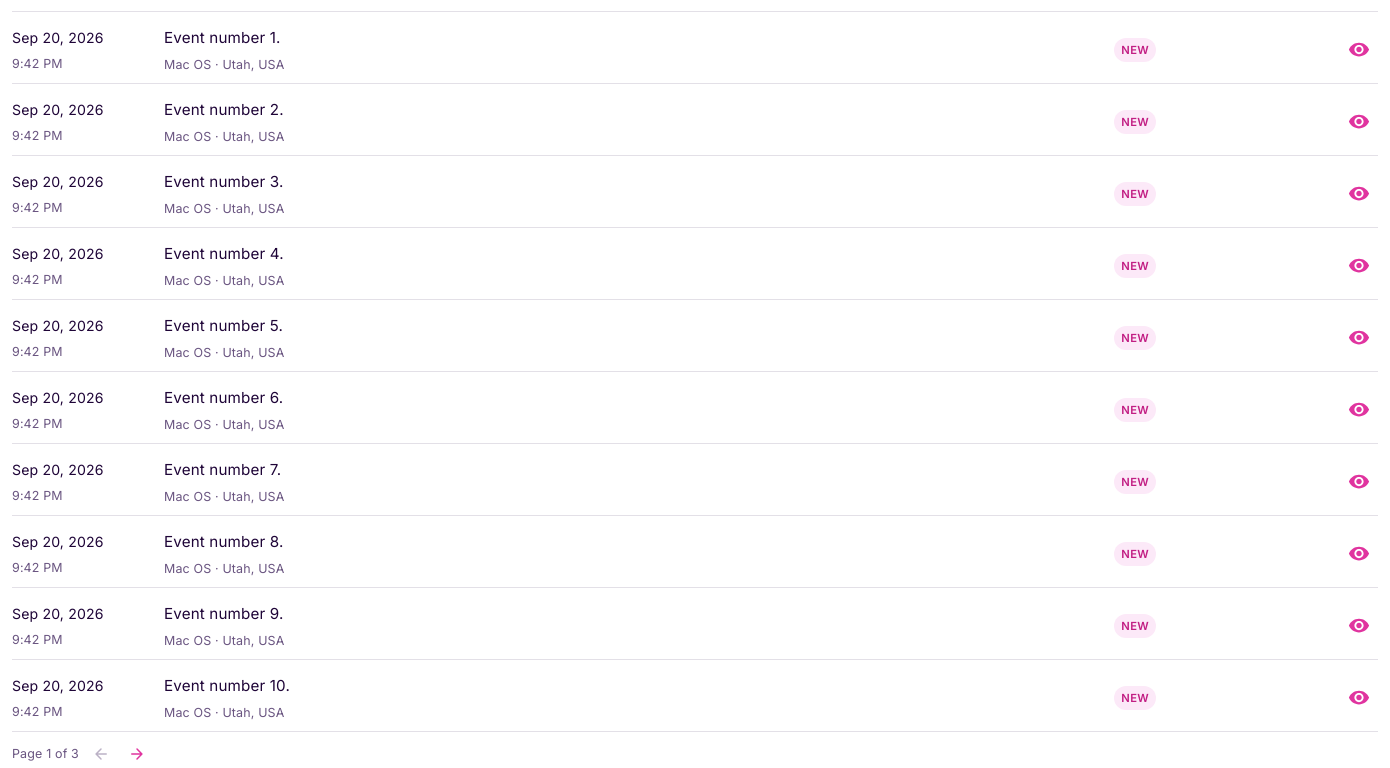
it: the pages it is read in › walks forward into the older rows and back out again
The image size is (1390, 768).
(page scrolled)
Click the button named "Older activity".
click(137, 754)  # box [123,740,151,767]
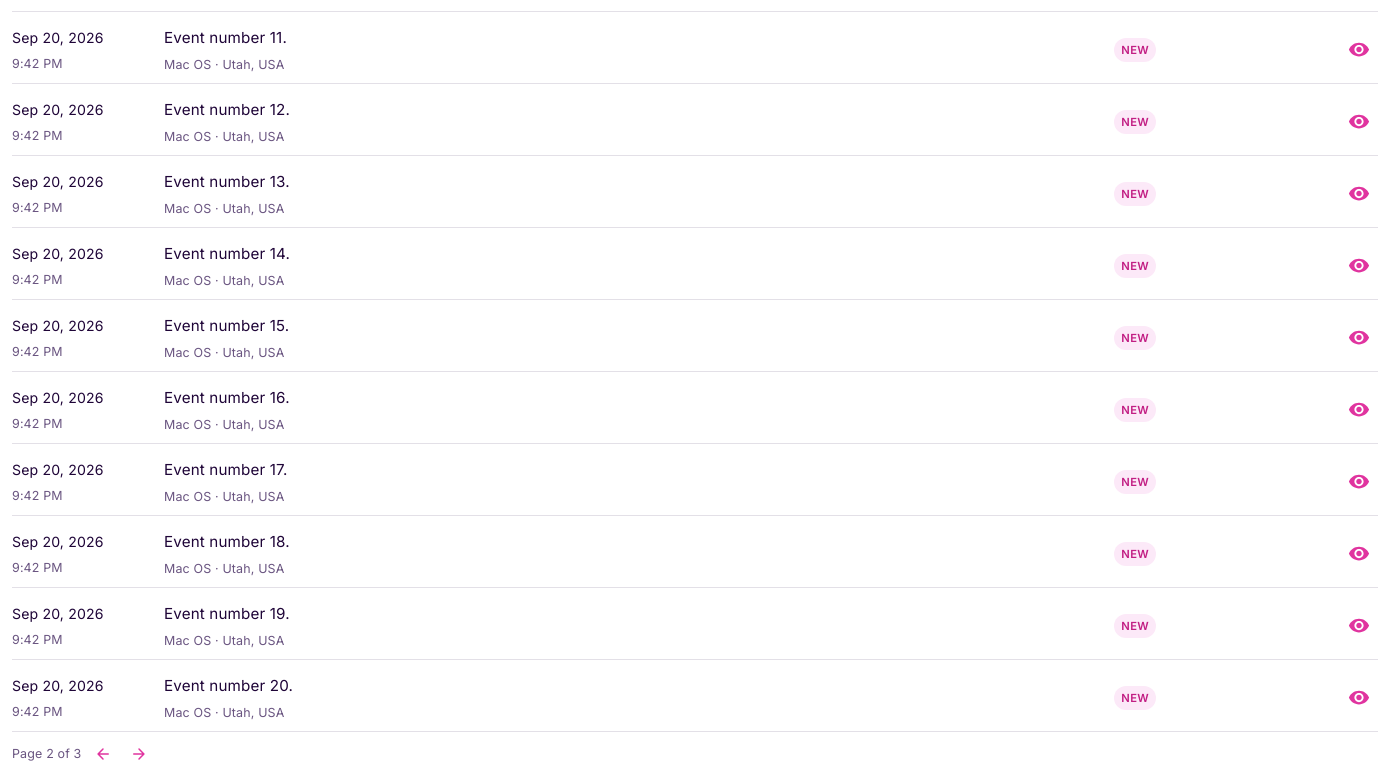
expect the text "Event number 11." is shown: met, box [164,28,287,47]
expect the text "Event number 10." is gone: met
Click the button named "Newer activity".
click(104, 754)  # box [90,740,118,767]
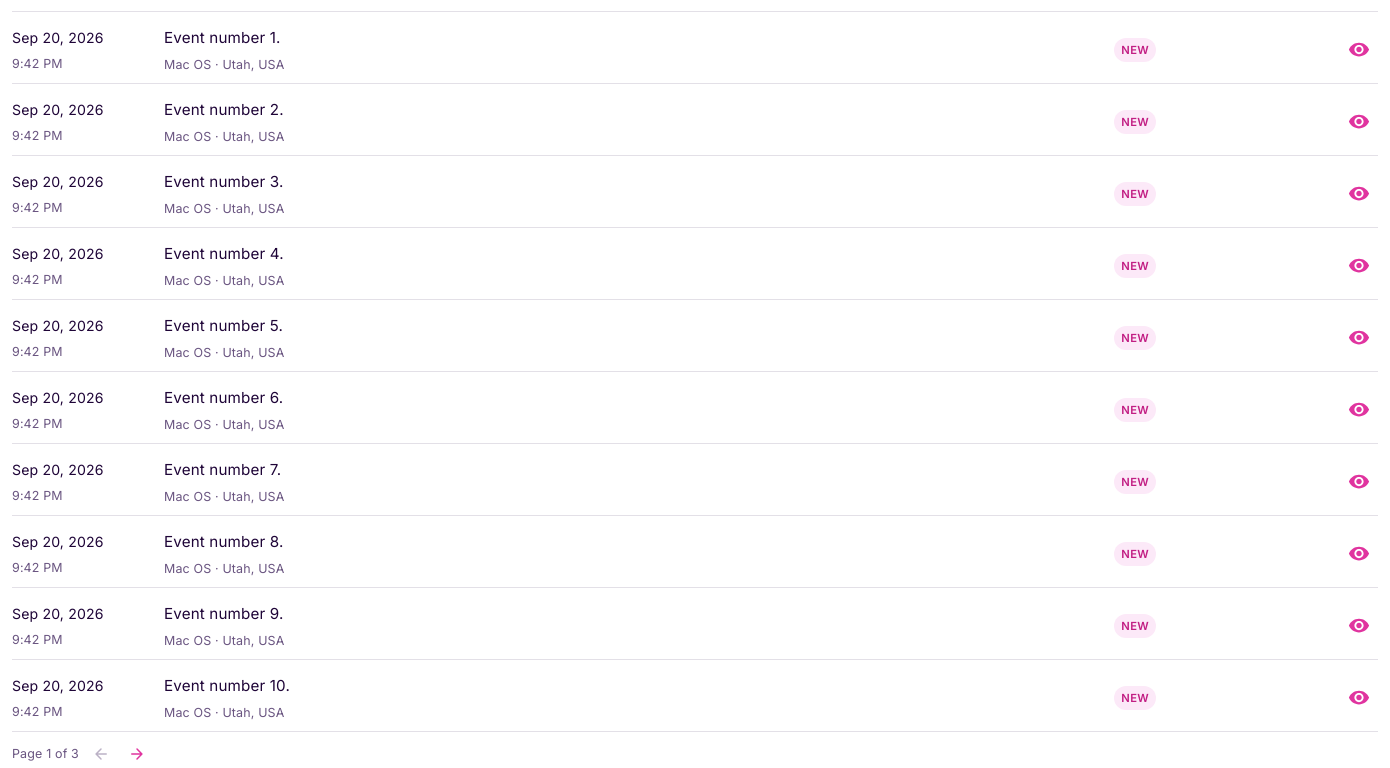
expect the text "Event number 10." is shown: met, box [164,676,290,695]
